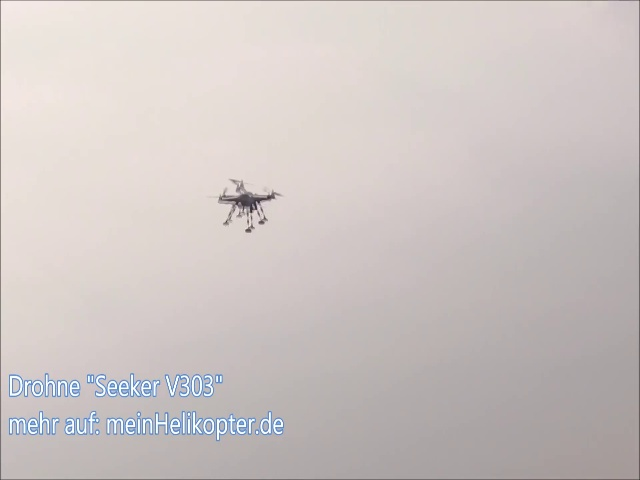drone: (210, 177, 284, 234)
